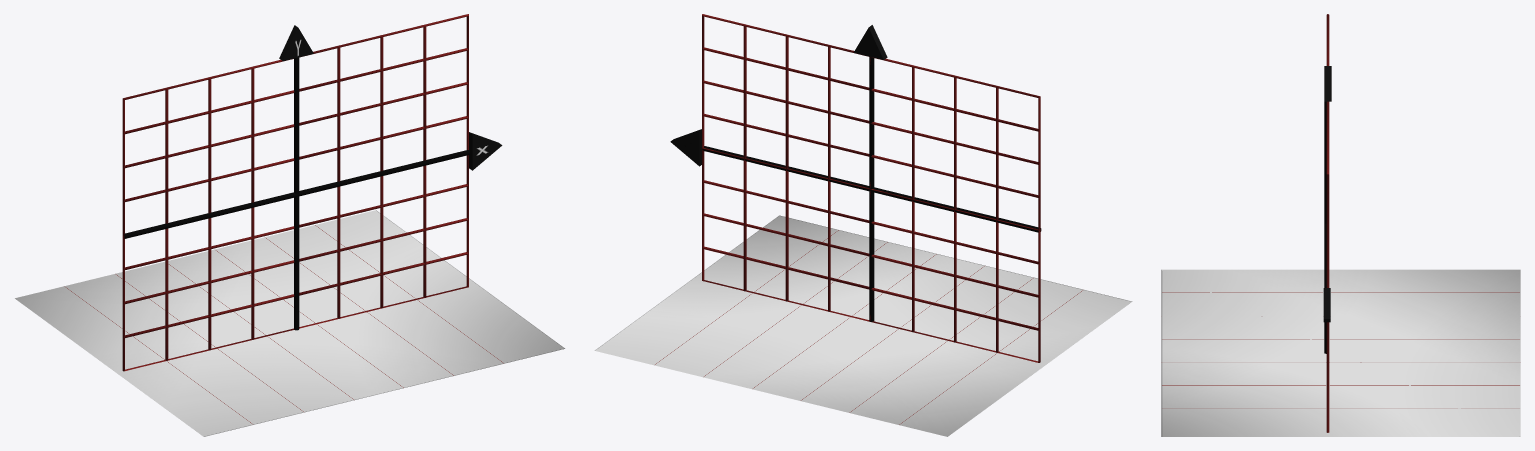
The picture shows the model from 3 angles, left to right: view 1: azimuth 30°, elevation 25°; view 2: azimuth 150°, elevation 25°; view 3: azimuth 270°, elevation 25°; orthographic projection. The views are drawn at different scales.
Parts seen in each view (by area): view 1: y_raiz_x_demo:Y__X_B_²:parabola:plane:pPlane1, polySurface71, pCylinder3, pCylinder4, Y__X_B_²:parabola:nueva_flecha_x:polySurface1, Y__X_B_²:parabola:Nueva_flecha_y:polySurface1; view 2: y_raiz_x_demo:Y__X_B_²:parabola:plane:pPlane1, polySurface71, pCylinder3, pCylinder4, Y__X_B_²:parabola:nueva_flecha_x:polySurface1, Y__X_B_²:parabola:Nueva_flecha_y:polySurface1; view 3: y_raiz_x_demo:Y__X_B_²:parabola:plane:pPlane1, polySurface71, pCylinder4.
Part boxes in pixels (x1,y1,x2,y2): y_raiz_x_demo:Y__X_B_²:parabola:plane:pPlane1: [15, 210, 564, 436]; polySurface71: [122, 14, 468, 371]; pCylinder3: [124, 150, 470, 238]; pCylinder4: [294, 57, 299, 330]; Y__X_B_²:parabola:nueva_flecha_x:polySurface1: [469, 132, 502, 170]; Y__X_B_²:parabola:Nueva_flecha_y:polySurface1: [279, 25, 313, 61]; y_raiz_x_demo:Y__X_B_²:parabola:plane:pPlane1: [594, 215, 1132, 436]; polySurface71: [702, 14, 1040, 362]; pCylinder3: [702, 146, 1041, 232]; pCylinder4: [869, 57, 874, 321]; Y__X_B_²:parabola:nueva_flecha_x:polySurface1: [670, 129, 701, 166]; Y__X_B_²:parabola:Nueva_flecha_y:polySurface1: [854, 25, 887, 59]; y_raiz_x_demo:Y__X_B_²:parabola:plane:pPlane1: [1161, 269, 1520, 436]; polySurface71: [1326, 14, 1329, 432]; pCylinder4: [1324, 101, 1326, 353].
Bounding box in the file's own units: 29.91 × 22.59 × 25.54.
